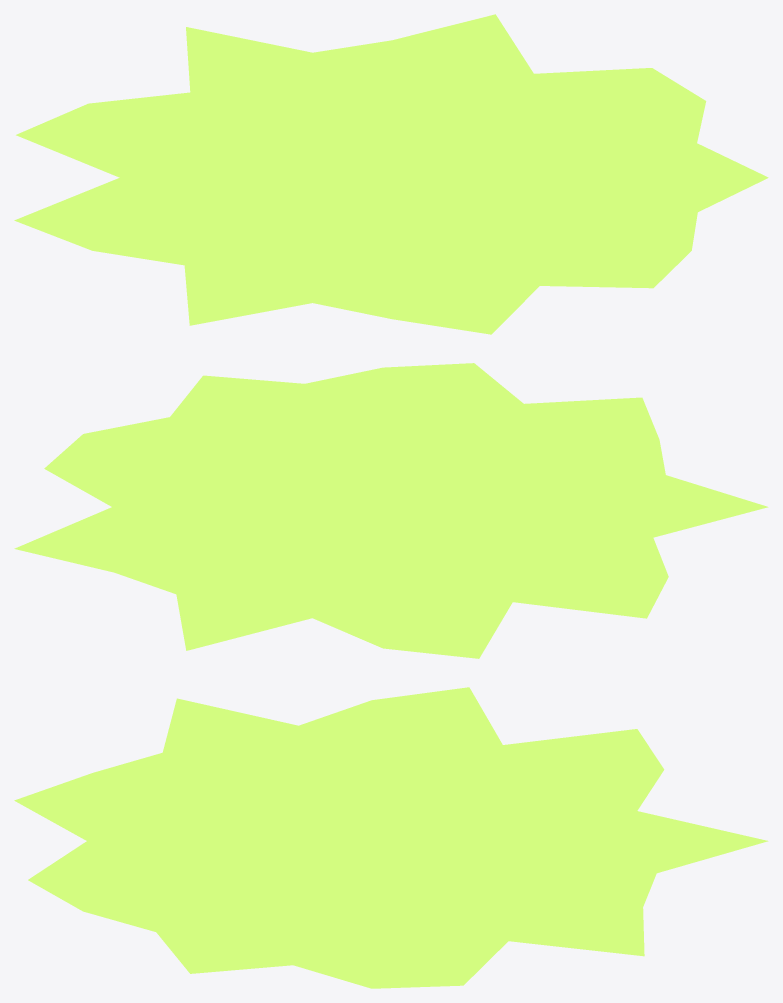
File: VFX_PlagueGroundPatch_v01.glb
The picture shows the model from 3 angles, top to bottom: view 1: azimuth 30°, elevation 25°; view 2: azimuth 150°, elevation 25°; view 3: azimuth 270°, elevation 25°; orthographic projection. The views are drawn at different scales.
Parts seen in each view (by area): view 1: MESH_PlagueGroundPatch; view 2: MESH_PlagueGroundPatch; view 3: MESH_PlagueGroundPatch.
Boxes of the visible parts, x1=… form: MESH_PlagueGroundPatch: x1=14, y1=14, x2=768, y2=334; MESH_PlagueGroundPatch: x1=14, y1=363, x2=768, y2=658; MESH_PlagueGroundPatch: x1=14, y1=687, x2=768, y2=988.
Size of the model in its own units: 3.72 by 0 by 3.93.
